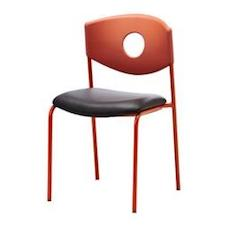chair: (33, 13, 194, 217)
